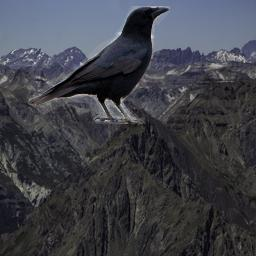Crow: (28, 6, 170, 124)
